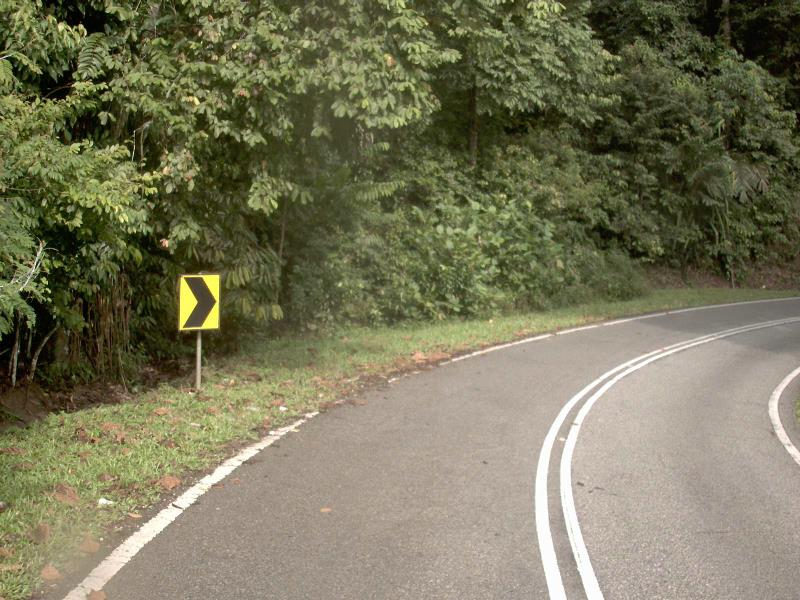traffic_sign: (169, 265, 228, 343)
